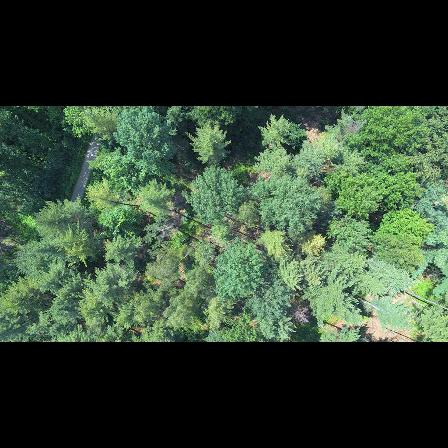Dead: (289, 299, 315, 325)
